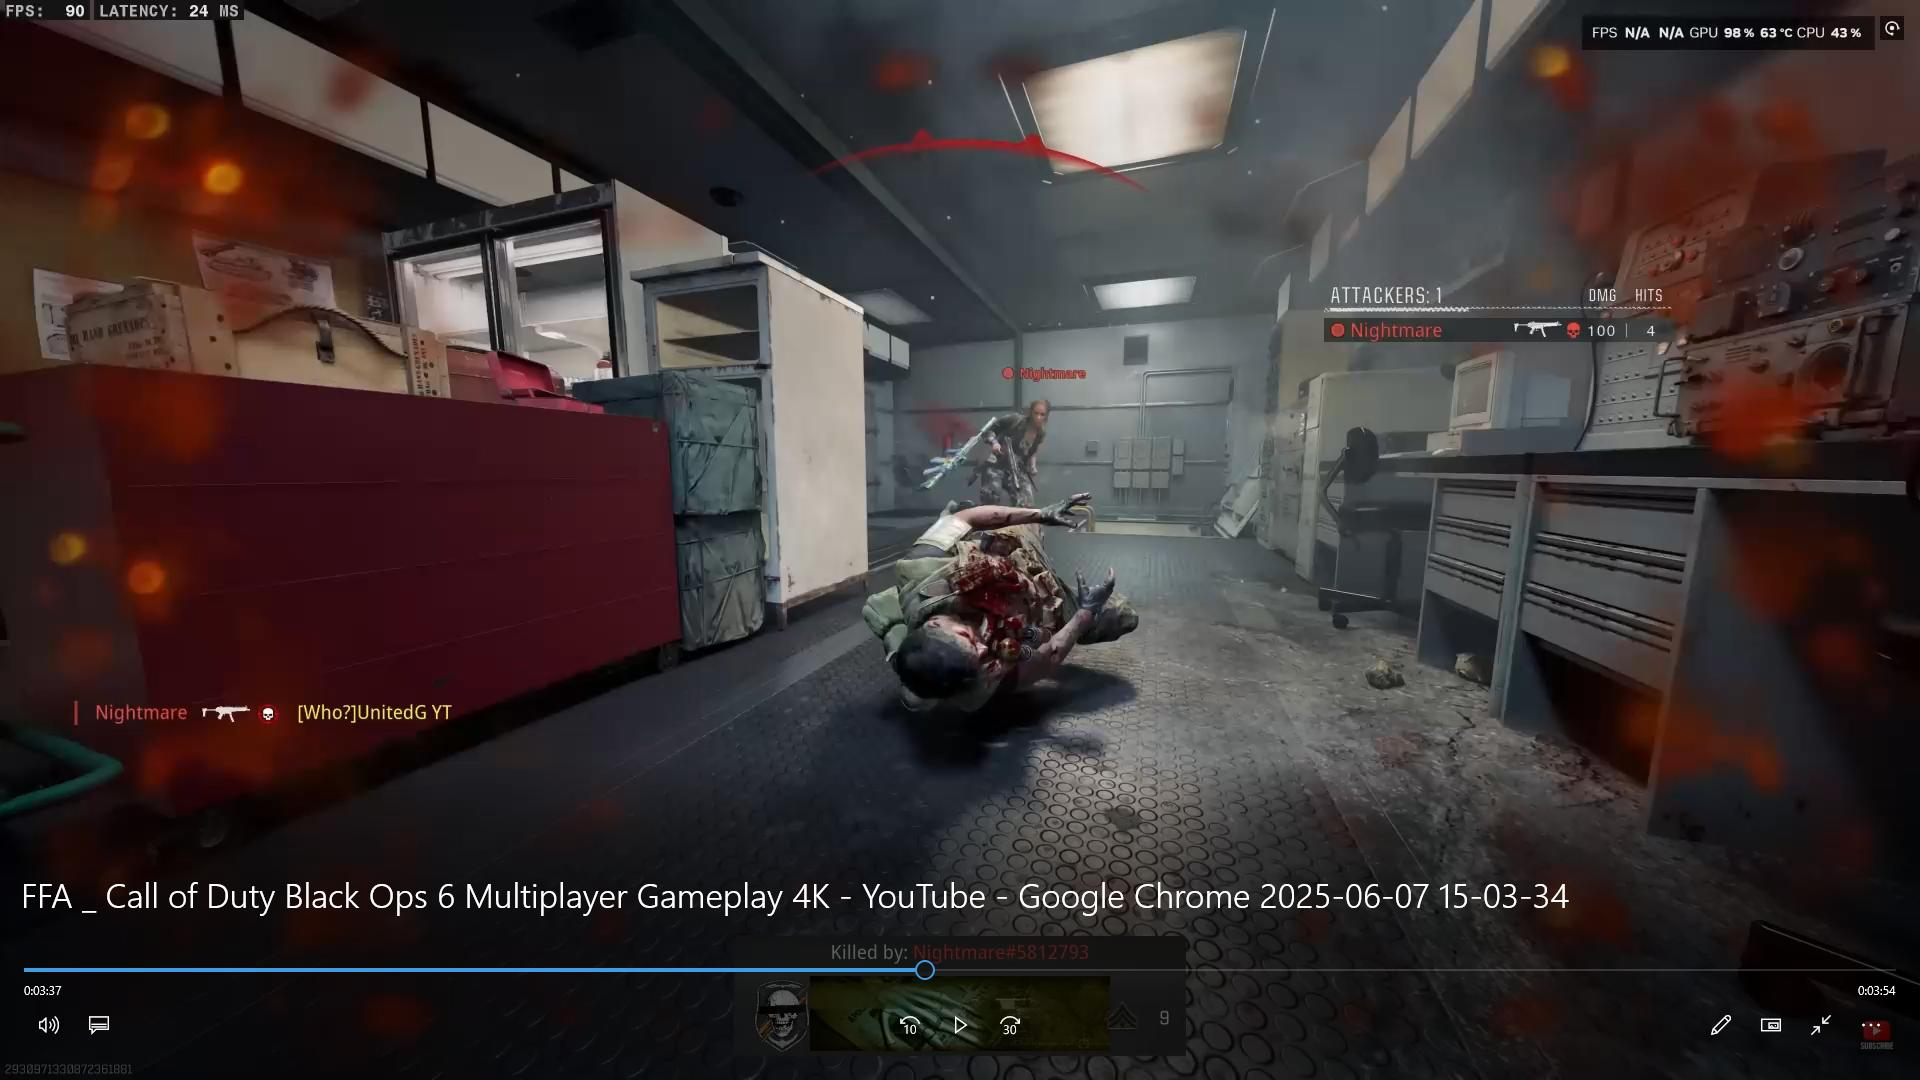Enemy: (971, 373, 1068, 501)
